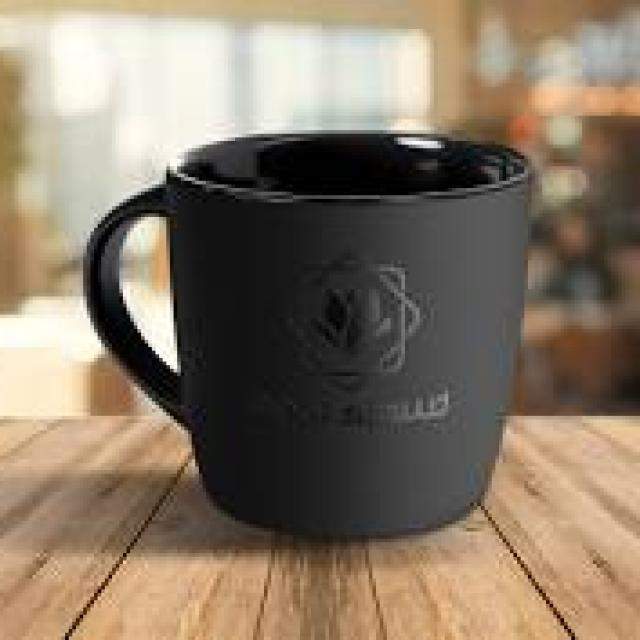Coffee Mug: (85, 127, 534, 537)
